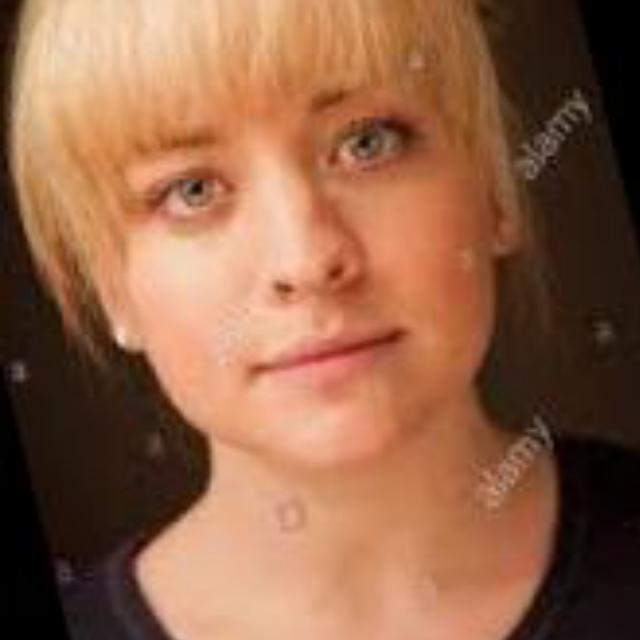Natural: (79, 68, 536, 472)
